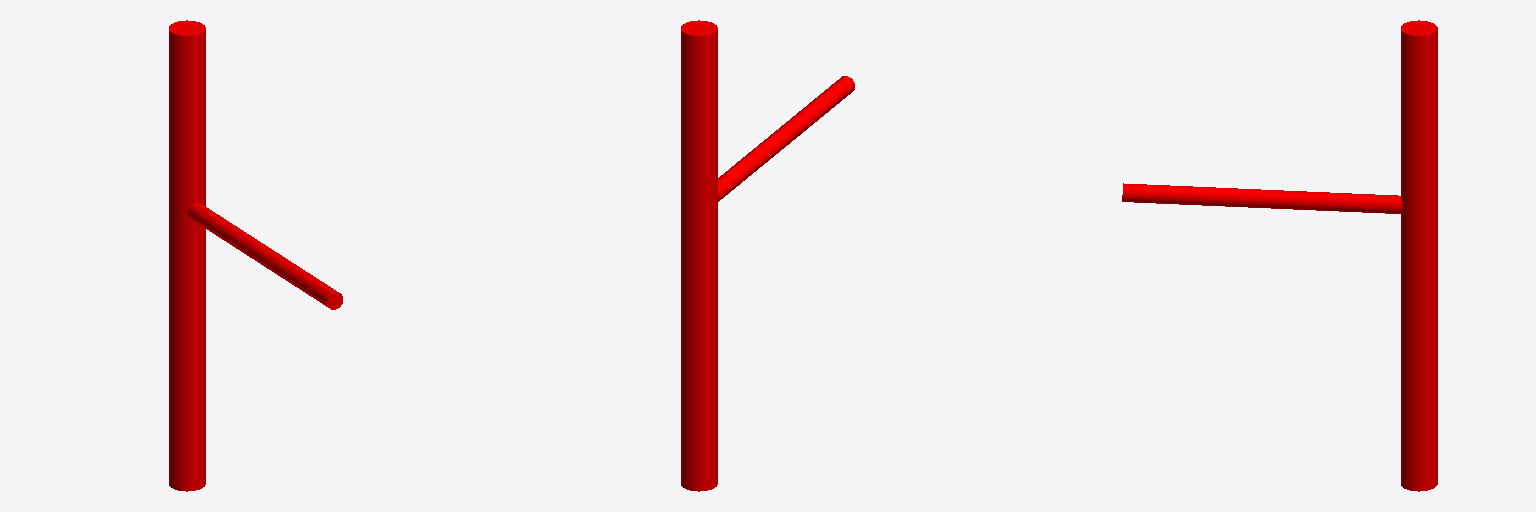
The robot description file, URDF, robot "tree.urdf":
<?xml version="1.0" ?>
<robot name="tree.urdf">
  <link name="baseLink">
    <inertial>
      <origin rpy="0 0 0" xyz="0 0 0"/>
       <mass value=".1"/>
       <inertia ixx="1" ixy="0" ixz="0" iyy="1" iyz="0" izz="1"/>
    </inertial>
    <contact>
      <lateral_friction value="1.0"/>
      <inertia_scaling value="3.0"/>
    </contact>
    <visual>
      <origin rpy="0 0 0" xyz="0 0 0"/>
      <geometry>
        <mesh filename="0.stl" scale="1 1 1" />
      </geometry>
      <material name="red">
        <color rgba="1 0 0 1"/>
      </material>
    </visual>
    <collision>
      <origin rpy="0 0 0" xyz="0 0 0"/>
      <geometry>
        <mesh filename="0_convex.obj" scale="1 1 1" />
      </geometry>
    </collision>
  </link>
</robot>

--- What the picture shows (computed from the rendered views, not written in the file) ---
The picture shows the robot from 3 angles, left to right: view 1: azimuth 30°, elevation 25°; view 2: azimuth 150°, elevation 25°; view 3: azimuth 270°, elevation 25°; orthographic projection.
Robot: tree.urdf — 1 links, 0 joints (none); root link baseLink; default pose: every joint at zero.
Links seen in each view (by area): view 1: baseLink; view 2: baseLink; view 3: baseLink.
Link boxes in pixels (box(x1,y1,x2,y2)): baseLink: box(169, 20, 342, 491); baseLink: box(681, 20, 854, 491); baseLink: box(1122, 20, 1437, 491).
Bounding box of the posed robot: 0.0308 × 0.2615 × 0.4167 m (x, y, z).
Meshes: 1 distinct files referenced, 1 mesh visuals loaded (1 binary STL).